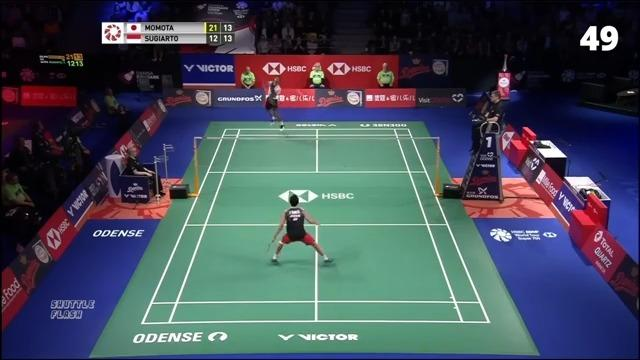Shuttlecock: (297, 91, 303, 96)
